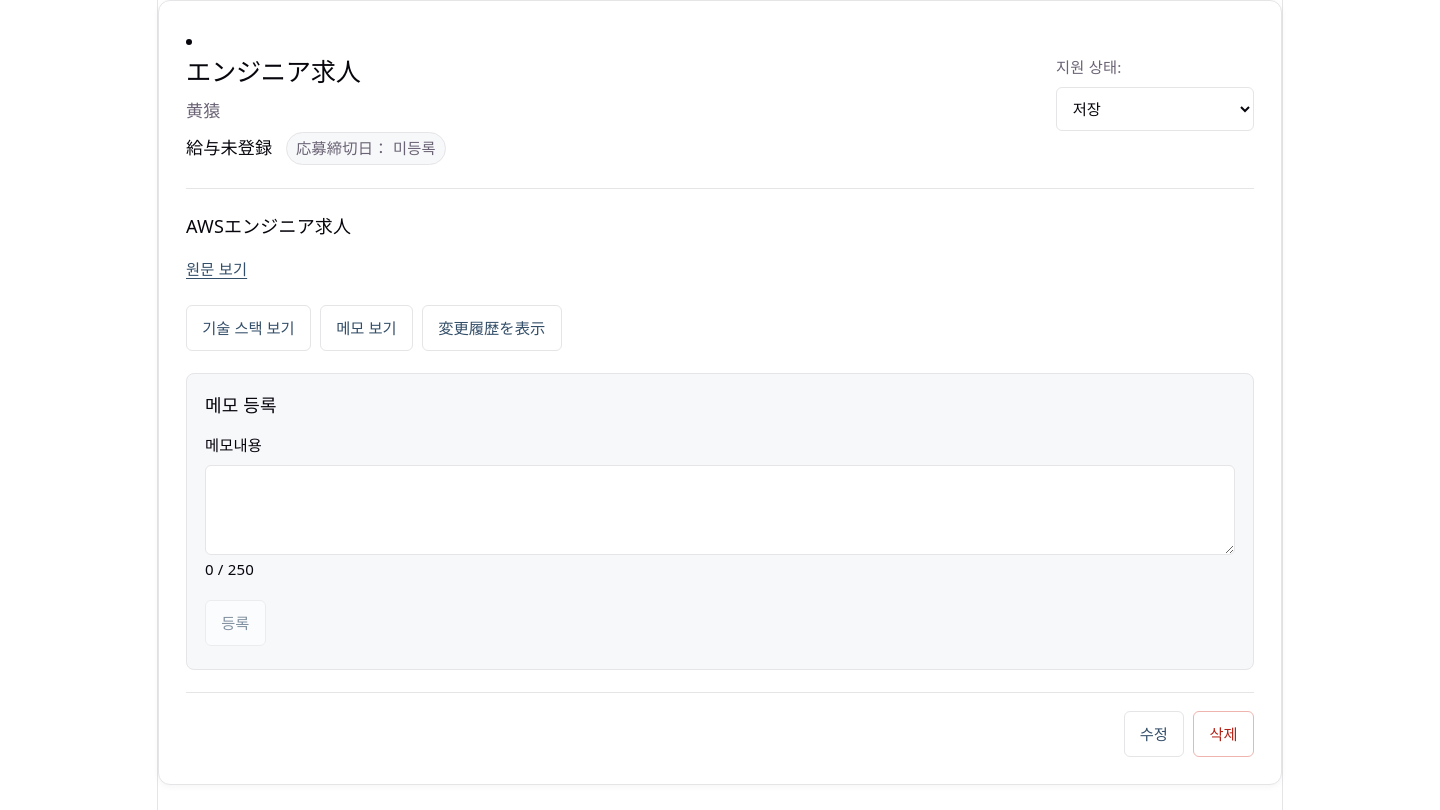
memos › 등록된 메모 목록이 정상적으로 표시된다.
Click the button "메모 보기" at (366, 328), box [320, 305, 413, 351]
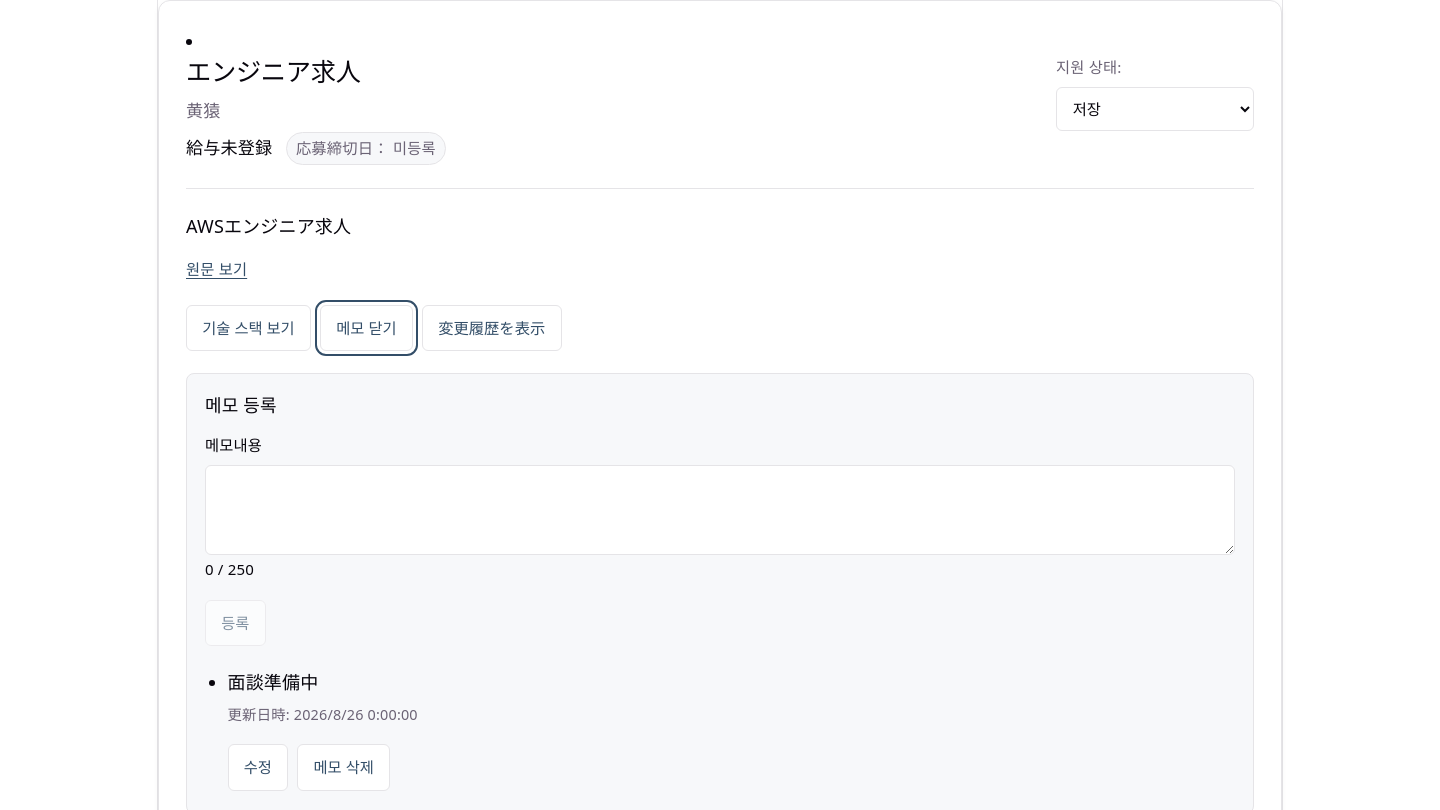
Check: the text "面談準備中" is shown, box [228, 670, 318, 694]
